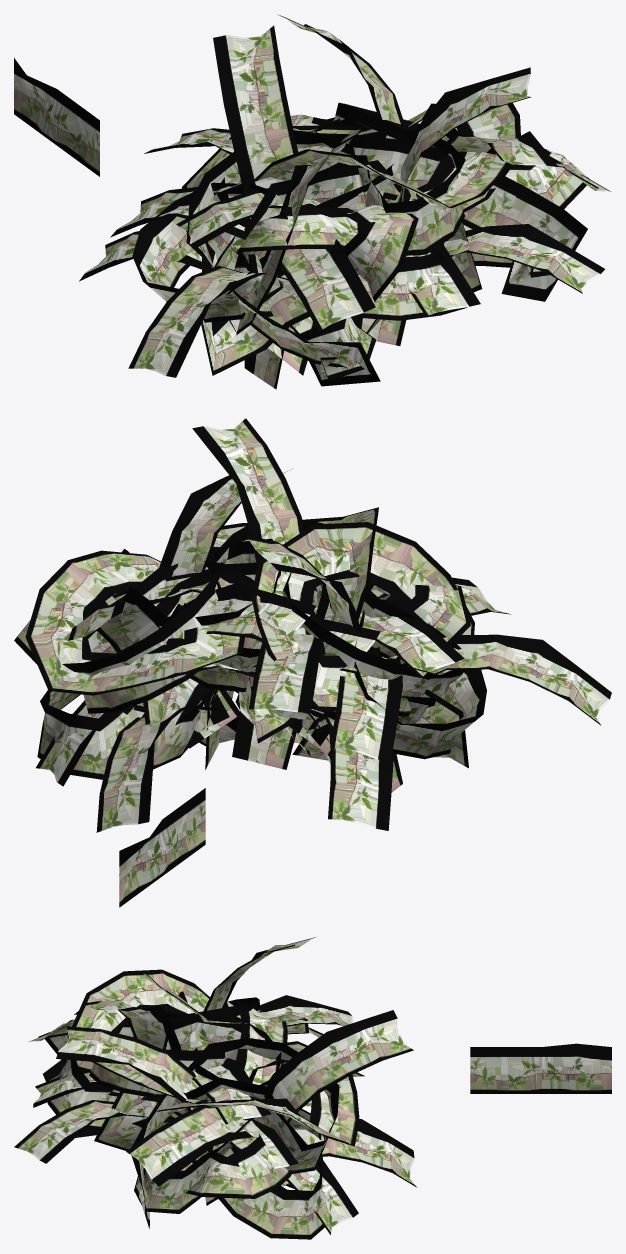
Rendered from ronces_med.fbx.
3 renders of one model, top to bottom at view 1: azimuth 30°, elevation 25°; view 2: azimuth 150°, elevation 25°; view 3: azimuth 270°, elevation 25°, orthographic. The views are drawn at different scales.
Parts seen in each view (by area): view 1: Plane.002, Plane; view 2: Plane.002, Plane; view 3: Plane.002, Plane.
Part boxes in pixels (x1=…): Plane.002: x1=79, y1=14, x2=610, y2=389; Plane: x1=14, y1=58, x2=99, y2=176; Plane.002: x1=14, y1=418, x2=611, y2=832; Plane: x1=119, y1=788, x2=205, y2=907; Plane.002: x1=14, y1=937, x2=416, y2=1239; Plane: x1=470, y1=1043, x2=611, y2=1093.
Bounding box in the file's own units: 672 × 361 × 824.
